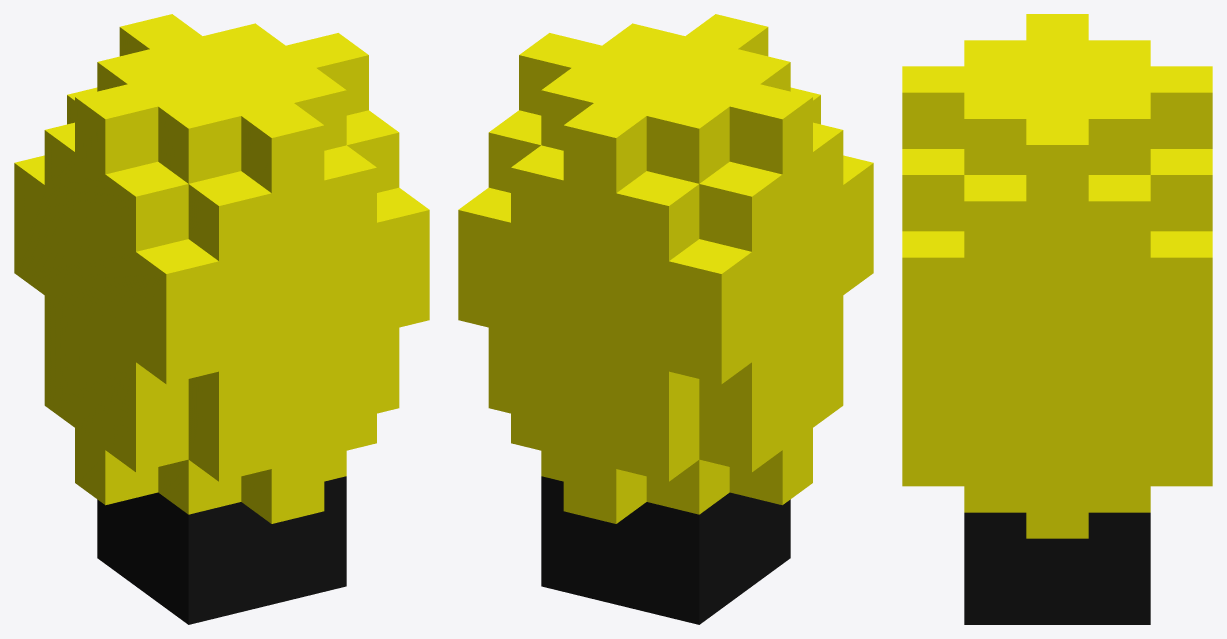
Rendered from Light.obj.
The picture shows the model from 3 angles, left to right: view 1: azimuth 30°, elevation 25°; view 2: azimuth 150°, elevation 25°; view 3: azimuth 270°, elevation 25°; orthographic projection.
Bounding box in the file's own units: 0.5 × 0.9 × 0.5.
Materials: 1 (1 with a texture image).
